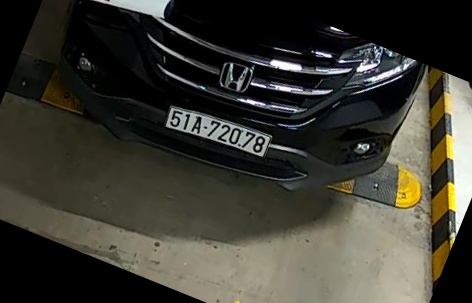plate: (156, 103, 272, 158)
